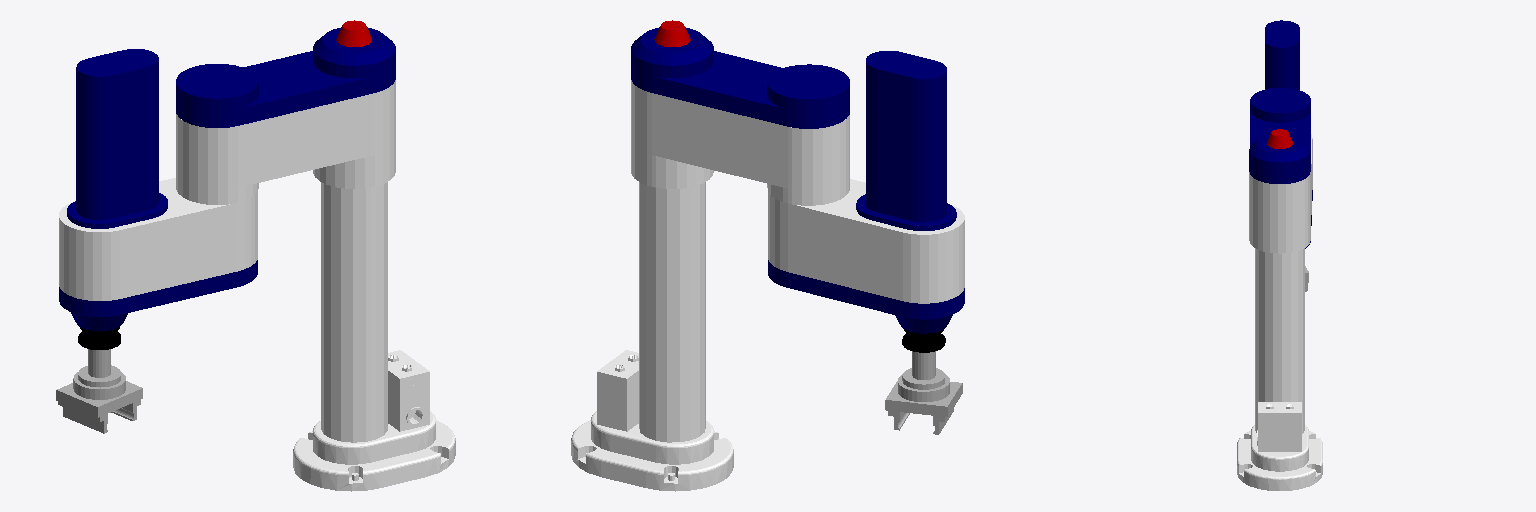
The robot description file, URDF, robot "scora_ind":
<robot name="scora_ind">
  <link name="world"/>
  <link name="base_link">
    <inertial>
      <origin
        xyz="-0.020022 -0.14084 0.30367"
        rpy="0 0 0" />
      <mass
        value="10.627" />
      <inertia
        ixx="0.62518"
        ixy="-3.1226E-05"
        ixz="0.038833"
        iyy="0.63836"
        iyz="8.6911E-05"
        izz="0.038067" />
    </inertial>
    <visual>
      <origin
        xyz="0 0 0"
        rpy="0 0 0" />
      <geometry>
        <mesh
          filename="package://scora_ind/base_link.STL" />
      </geometry>
      <material name="white">
        <color rgba="1 1 1 1" />
      </material>
    </visual>
    <collision>
      <origin
        xyz="0 0 0"
        rpy="0 0 0" />
      <geometry>
        <mesh
          filename="package://scora_ind/base_link.STL" />
      </geometry>
    </collision>
  </link>
  <joint name="base_joint" type="fixed">
    <parent link="world"/>
    <child link="base_link"/>
  </joint>
  <link name="link_1">
    <inertial>
      <origin
        xyz="0.12615 -3.3307E-16 -0.073533"
        rpy="0 0 0" />
      <mass
        value="9.9747" />
      <inertia
        ixx="0.035087"
        ixy="3.4338E-16"
        ixz="-0.0077194"
        iyy="0.15551"
        iyz="2.2443E-17"
        izz="0.15043" />
    </inertial>
    <visual>
      <origin
        xyz="0 0 0"
        rpy="0 0 0" />
      <geometry>
        <mesh
          filename="package://scora_ind/link_1.STL" />
      </geometry>
      <material
        name="white">
      </material>
    </visual>
    <collision>
      <origin
        xyz="0 0 0"
        rpy="0 0 0" />
      <geometry>
        <mesh
          filename="package://scora_ind/link_1.STL" />
      </geometry>
    </collision>
  </link>
  <joint name="link_1_to_base_link" type="revolute">
    <origin
      xyz="-0.035098 -0.14087 0.733"
      rpy="0 0 3.1354" />
    <parent
      link="base_link" />
    <child
      link="link_1" />
    <axis
      xyz="0 0 1" />
    <limit
      lower="-2.125"
      upper="2.125"
      effort="1000"
      velocity="0.5" />
  </joint>
  <link name="link_2">
    <inertial>
      <origin
        xyz="0.115 4.4409E-16 -0.21"
        rpy="0 0 0" />
      <mass
        value="7.9815" />
      <inertia
        ixx="0.023223"
        ixy="-1.6878E-16"
        ixz="-1.2692E-22"
        iyy="0.089988"
        iyz="3.6814E-19"
        izz="0.09073" />
    </inertial>
    <visual>
      <origin
        xyz="0 0 0"
        rpy="0 0 0" />
      <geometry>
        <mesh
          filename="package://scora_ind/link_2.STL" />
      </geometry>
      <material
        name="white">
      </material>
    </visual>
    <collision>
      <origin
        xyz="0 0 0"
        rpy="0 0 0" />
      <geometry>
        <mesh
          filename="package://scora_ind/link_2.STL" />
      </geometry>
    </collision>
  </link>
  <joint name="link_2_to_link_1" type="revolute">
    <origin
      xyz="0.27 0 0"
      rpy="0 0 -0.010618" />
    <parent
      link="link_1" />
    <child
      link="link_2" />
    <axis
      xyz="0 0 1" />
    <limit
      lower="-2"
      upper="2"
      effort="1000"
      velocity="0.5" />
  </joint>
  <link name="link_3">
    <inertial>
      <origin
        xyz="-7.3346E-06 4.2003E-06 0.15052"
        rpy="0 0 0" />
      <mass
        value="1.5933" />
      <inertia
        ixx="0.034764"
        ixy="-2.84E-07"
        ixz="-3.1022E-06"
        iyy="0.034763"
        iyz="-3.3604E-06"
        izz="0.00078745" />
    </inertial>
    <visual>
      <origin
        xyz="0 0 0"
        rpy="0 0 0" />
      <geometry>
        <mesh
          filename="package://scora_ind/link_3.STL" />
      </geometry>
      <material name="black">
        <color rgba="0 0 0 1" />
      </material>
    </visual>
    <collision>
      <origin
        xyz="0 0 0"
        rpy="0 0 0" />
      <geometry>
        <mesh
          filename="package://scora_ind/link_3.STL" />
      </geometry>
    </collision>
  </link>
  <joint name="link_3_to_link_2" type="prismatic">
    <origin
      xyz="0.23 0 -0.275"
      rpy="0 0 0.01683" />
    <parent
      link="link_2" />
    <child
      link="link_3" />
    <axis
      xyz="0 0 1" />
    <limit
      lower="-0.12"
      upper="0"
      effort="1000"
      velocity="0.5" />
  </joint>
  <link name="link_4">
    <inertial>
      <origin
        xyz="3.5527E-15 -0.078733 -3.3537E-07"
        rpy="0 0 0" />
      <mass
        value="0.45456" />
      <inertia
        ixx="0.00057292"
        ixy="-5.7585E-19"
        ixz="1.4121E-18"
        iyy="0.00055966"
        iyz="-4.3855E-09"
        izz="0.00060863" />
    </inertial>
    <visual>
      <origin
        xyz="0 0 0"
        rpy="0 0 0" />
      <geometry>
        <mesh
          filename="package://scora_ind/link_5.STL" />
      </geometry>
      <material name="plateado">
        <color rgba="0.753 0.753 0.753 1" />
      </material>
    </visual>
    <collision>
      <origin
        xyz="0 0 0"
        rpy="0 0 0" />
      <geometry>
        <mesh
          filename="package://scora_ind/link_5.STL" />
      </geometry>
    </collision>
  </link>
  <joint name="link_4_to_link_3" type="revolute">
    <origin
      xyz="0 0 -0.10799"
      rpy="1.5708 0 0.26415" />
    <parent
      link="link_3" />
    <child
      link="link_4" />
    <axis
      xyz="0 1 0" />
    <limit
      lower="0"
      upper="10"
      effort="1000"
      velocity="0.5" />
  </joint>
  <link name="gripper_left">
    <inertial>
      <origin
        xyz="-0.0079242 -0.012378 -2.3708E-07"
        rpy="0 0 0" />
      <mass
        value="0.046306" />
      <inertia
        ixx="4.3367E-05"
        ixy="8.8996E-07"
        ixz="7.9718E-11"
        iyy="3.9069E-05"
        iyz="-1.1777E-10"
        izz="6.6885E-06" />
    </inertial>
    <visual>
      <origin
        xyz="0 0 0"
        rpy="0 0 0" />
      <geometry>
        <mesh
          filename="package://scora_ind/gripper_left.STL" />
      </geometry>
      <material
        name="plateado">
        <color
          rgba="0.753 0.753 0.753 1" />
      </material>
    </visual>
    <collision>
      <origin
        xyz="0 0 0"
        rpy="0 0 0" />
      <geometry>
        <mesh
          filename="package://scora_ind/gripper_left.STL" />
      </geometry>
    </collision>
  </link>
  <joint name="gripper_left_to_link_4" type="prismatic">
    <origin
      xyz="-0.029935 -0.11 0"
      rpy="0 0 0" />
    <parent
      link="link_4" />
    <child
      link="gripper_left" />
    <axis
      xyz="1 0 0" />
    <limit
      lower="0"
      upper="0.027"
      effort="1000"
      velocity="0.5" />
  </joint>
  <link name="gripper_right">
    <inertial>
      <origin
        xyz="-0.017703 -0.012378 -2.3708E-07"
        rpy="0 0 0" />
      <mass
        value="0.046306" />
      <inertia
        ixx="4.3367E-05"
        ixy="8.8996E-07"
        ixz="7.9718E-11"
        iyy="3.9069E-05"
        iyz="-1.1777E-10"
        izz="6.6885E-06" />
    </inertial>
    <visual>
      <origin
        xyz="0 0 0"
        rpy="0 0 0" />
      <geometry>
        <mesh
          filename="package://scora_ind/gripper_right.STL" />
      </geometry>
      <material
        name="plateado">
        <color
          rgba="0.753 0.753 0.753 1" />
      </material>
    </visual>
    <collision>
      <origin
        xyz="0 0 0"
        rpy="0 0 0" />
      <geometry>
        <mesh
          filename="package://scora_ind/gripper_right.STL" />
      </geometry>
    </collision>
  </link>
  <joint name="gripper_right_to_link_4" type="prismatic">
    <origin
      xyz="0.020065 -0.11 0"
      rpy="3.1416 0 3.1416" />
    <parent
      link="link_4" />
    <child
      link="gripper_right" />
    <axis
      xyz="1 0 0" />
    <limit
      lower="0"
      upper="0.027"
      effort="1000"
      velocity="0.5" />
  </joint>
  <link name="link2_top">
    <inertial>
      <origin
        xyz="0.08 0.13708 4.4409E-16"
        rpy="0 0 0" />
      <mass
        value="3.9231" />
      <inertia
        ixx="0.028533"
        ixy="2.1205E-19"
        ixz="6.2071E-18"
        iyy="0.0081453"
        iyz="7.0666E-19"
        izz="0.032806" />
    </inertial>
    <visual>
      <origin
        xyz="0 0 0"
        rpy="0 0 0" />
      <geometry>
        <mesh
          filename="package://scora_ind/link_2_top.STL" />
      </geometry>
      <material
        name="blue">
        <color
          rgba="0 0 0.5 1" />
      </material>
    </visual>
    <collision>
      <origin
        xyz="0 0 0"
        rpy="0 0 0" />
      <geometry>
        <mesh
          filename="package://scora_ind/link_2_top.STL" />
      </geometry>
    </collision>
  </link>
  <joint name="link2_top_to_link_2" type="fixed">
    <origin
      xyz="0.115 0 -0.145"
      rpy="1.5708 0 0" />
    <parent
      link="link_2" />
    <child
      link="link2_top" />
    <axis
      xyz="0 0 0" />
  </joint>
  <link name="link2_bottom">
    <inertial>
      <origin
        xyz="-0.006445 -0.018805 0"
        rpy="0 0 0" />
      <mass
        value="1.9512" />
      <inertia
        ixx="0.0033196"
        ixy="-0.00080596"
        ixz="3.3244E-17"
        iyy="0.022699"
        iyz="1.8923E-18"
        izz="0.020092" />
    </inertial>
    <visual>
      <origin
        xyz="0 0 0"
        rpy="0 0 0" />
      <geometry>
        <mesh
          filename="package://scora_ind/link_2_bottom.STL" />
      </geometry>
      <material name="blue">
      </material>
    </visual>
    <collision>
      <origin
        xyz="0 0 0"
        rpy="0 0 0" />
      <geometry>
        <mesh
          filename="package://scora_ind/link_2_bottom.STL" />
      </geometry>
    </collision>
  </link>
  <joint name="link2_bottom_to_link_2" type="fixed">
    <origin
      xyz="0.115 0 -0.275"
      rpy="1.5708 0 3.1416" />
    <parent
      link="link_2" />
    <child
      link="link2_bottom" />
    <axis
      xyz="0 0 0" />
  </joint>
  <link name="link_top">
    <inertial>
      <origin
        xyz="-0.0075332 -0.00297 1.1102E-16"
        rpy="0 0 0" />
      <mass
        value="2.4093" />
      <inertia
        ixx="0.0044802"
        ixy="-0.0015436"
        ixz="-1.1295E-16"
        iyy="0.037989"
        iyz="-5.6802E-18"
        izz="0.03515" />
    </inertial>
    <visual>
      <origin
        xyz="0 0 0"
        rpy="0 0 0" />
      <geometry>
        <mesh
          filename="package://scora_ind/link_top.STL" />
      </geometry>
      <material
        name="blue">
      </material>
    </visual>
    <collision>
      <origin
        xyz="0 0 0"
        rpy="0 0 0" />
      <geometry>
        <mesh
          filename="package://scora_ind/link_top.STL" />
      </geometry>
    </collision>
  </link>
  <joint name="link_top_to_link_1" type="fixed">
    <origin
      xyz="0.135 0 0.032"
      rpy="1.5708 0 3.1416" />
    <parent
      link="link_1" />
    <child
      link="link_top" />
    <axis
      xyz="0 0 0" />
  </joint>
  <link name="Light_alarm">
    <inertial>
      <origin
        xyz="3.5527E-15 0.011588 0"
        rpy="0 0 0" />
      <mass
        value="0.072255" />
      <inertia
        ixx="1.6827E-05"
        ixy="1.344E-38"
        ixz="-8.3898E-38"
        iyy="2.5295E-05"
        iyz="-1.5472E-22"
        izz="1.6827E-05" />
    </inertial>
    <visual>
      <origin
        xyz="0 0 0"
        rpy="0 0 0" />
      <geometry>
        <mesh
          filename="package://scora_ind/Light_alarm.STL" />
      </geometry>
      <material
        name="red">
        <color
          rgba="0.8 0 0 1" />
      </material>
    </visual>
    <collision>
      <origin
        xyz="0 0 0"
        rpy="0 0 0" />
      <geometry>
        <mesh
          filename="package://scora_ind/Light_alarm.STL" />
      </geometry>
    </collision>
  </link>
  <joint name="Light_alarm_to_link_top" type="fixed">
    <origin
      xyz="0.135 0.04 0"
      rpy="0 0.0062122 0" />
    <parent
      link="link_top" />
    <child
      link="Light_alarm" />
    <axis
      xyz="0 0 0" />
  </joint>
</robot>

--- Render facts (derived) ---
3 views of the same robot in one strip: view 1: azimuth 30°, elevation 25°; view 2: azimuth 150°, elevation 25°; view 3: azimuth 270°, elevation 25° (orthographic).
Robot: scora_ind — 12 links, 11 joints (3 revolute, 3 prismatic, 5 fixed); root link world; default pose: every joint at zero.
Visible links, largest first — view 1: base_link, link_1, link_2, link2_top, link_top, link2_bottom, link_4, link_3, Light_alarm, gripper_right; view 2: base_link, link_1, link_2, link2_top, link_top, link2_bottom, link_4, link_3, Light_alarm; view 3: base_link, link_top, link_1, link2_top.
Boxes of the visible links, <box> form: base_link: <box>293,182,455,491</box>; link_1: <box>176,80,395,204</box>; link_2: <box>59,178,257,300</box>; link2_top: <box>67,49,167,228</box>; link_top: <box>176,27,395,127</box>; link2_bottom: <box>59,260,257,330</box>; link_4: <box>56,349,142,417</box>; link_3: <box>78,327,120,349</box>; Light_alarm: <box>336,20,371,46</box>; gripper_right: <box>58,401,107,433</box>; base_link: <box>571,182,733,491</box>; link_1: <box>631,80,849,205</box>; link_2: <box>768,179,964,303</box>; link2_top: <box>856,51,956,230</box>; link_top: <box>631,27,849,128</box>; link2_bottom: <box>768,260,964,333</box>; link_4: <box>885,351,962,416</box>; link_3: <box>902,329,945,352</box>; Light_alarm: <box>654,20,690,46</box>; base_link: <box>1237,248,1322,490</box>; link_top: <box>1249,88,1310,183</box>; link_1: <box>1249,172,1310,253</box>; link2_top: <box>1265,20,1299,89</box>.
Bounding box of the posed robot: 0.7545 × 0.2 × 0.868 m (x, y, z).
11 mesh visuals loaded from 11 distinct referenced files (11 binary STL).